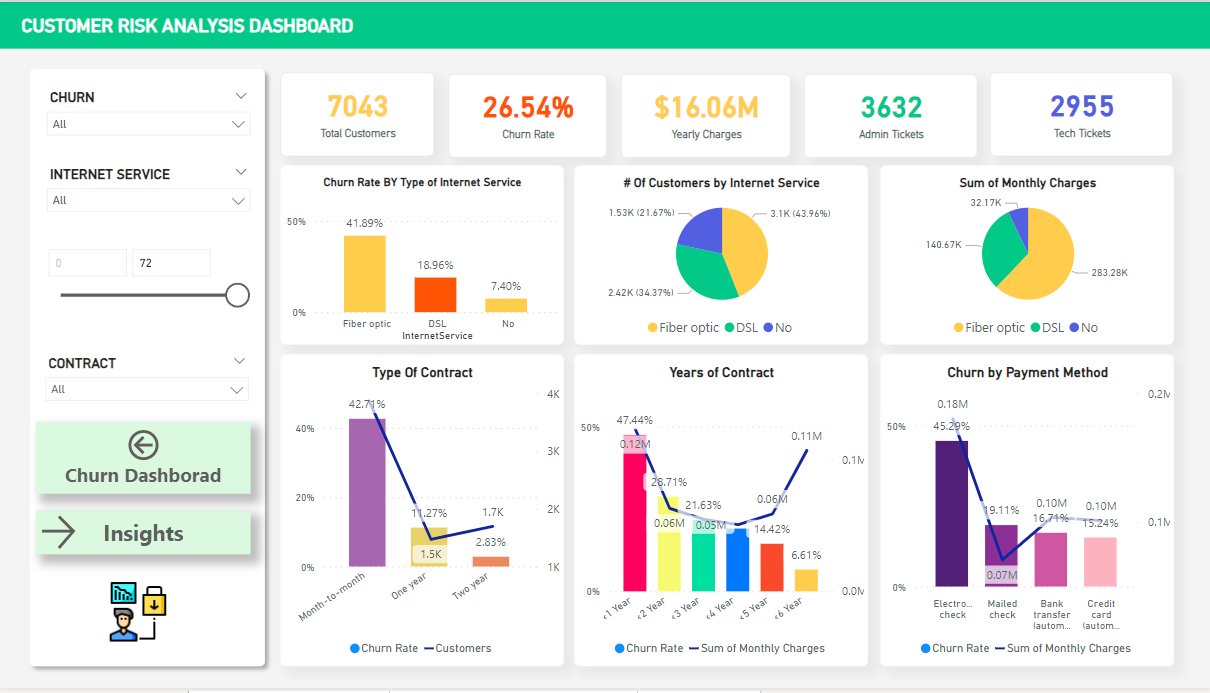

This screenshot's page, from the dashboard's own definition file:
{"tool":"powerbi","page":{"name":"Customer Risk Analysis","canvas":[1280,720],"ordinal":1},"visuals":[{"type":"shape","box":[0,0,1280,49],"z":0},{"type":"textbox","box":[21,8,438,33],"z":1000},{"type":"shape","box":[25,61,265,645],"z":2000},{"type":"slicer","fields":{"Values":["Churn.Churn"]},"box":[42,82,233,81],"z":3000},{"type":"slicer","fields":{"Values":["Churn.InternetService"]},"box":[42,163,233,81],"z":4000},{"type":"slicer","fields":{"Values":["Churn.tenure"]},"box":[41,244,233,97],"z":5000},{"type":"slicer","fields":{"Values":["Churn.Contract"]},"box":[41,360,233,81],"z":6000},{"type":"card","fields":{"Values":["CountNonNull(01 Churn-Dataset.customerID)"]},"box":[298,74,161,88],"z":7000},{"type":"card","fields":{"Values":["Churn.% Churn Rate"]},"box":[474,75,166,88],"z":8000},{"type":"card","fields":{"Values":["Sum(Churn.TotalCharges)"]},"box":[656,75,178,88],"z":9000},{"type":"card","fields":{"Values":["Sum(Churn.numAdminTickets)"]},"box":[848,75,182,88],"z":10000},{"type":"card","fields":{"Values":["Sum(Churn.numTechTickets)"]},"box":[1043,74,192,88],"z":11000},{"type":"columnChart","title":"Churn Rate BY Type of Internet Service","fields":{"Y":["Churn.% Churn Rate"],"Category":["Churn.InternetService"]},"box":[298,172,297,188],"z":12000},{"type":"pieChart","title":"# Of Customers by Internet Service","fields":{"Y":["CountNonNull(Churn.customerID)"],"Category":["Churn.InternetService"]},"box":[607,172,308,188],"z":13000},{"type":"pieChart","title":"Sum of Monthly Charges","fields":{"Category":["Churn.InternetService"],"Y":["Sum(Churn.MonthlyCharges)"]},"box":[927,172,308,188],"z":14000},{"type":"lineStackedColumnComboChart","title":"Type Of Contract","fields":{"Y2":["CountNonNull(Churn.customerID)"],"Y":["Churn.% Churn Rate"],"Category":["Churn.Contract"]},"box":[298,370,297,327],"z":15000},{"type":"lineStackedColumnComboChart","title":"Years of Contract","fields":{"Y":["Churn.% Churn Rate"],"Y2":["Sum(Churn.MonthlyCharges)"],"Category":["Churn.Tenure(in years)"]},"box":[607,370,308,327],"z":16000},{"type":"lineStackedColumnComboChart","title":"Churn by Payment Method","fields":{"Y":["Churn.% Churn Rate"],"Y2":["Sum(Churn.MonthlyCharges)"],"Category":["Churn.PaymentMethod"]},"box":[927,370,308,327],"z":17000},{"type":"actionButton","title":"Insights","box":[41,534,225.2,45.7],"z":19000},{"type":"actionButton","title":"Churn Dashboard","box":[41,441,225.2,75.6],"z":20000},{"type":"image","box":[110.3,601.7,78.8,77.2],"z":20001}]}

Visuals, with their boxes in screenshot pixels (x1, y1, x2, y2), scaled from the page's 1280x720 canvas onto the 1210x693 screenshot:
shape: (x1=0, y1=0, x2=1209, y2=47)
textbox: (x1=20, y1=8, x2=434, y2=39)
shape: (x1=24, y1=59, x2=274, y2=680)
slicer - Churn.Churn: (x1=40, y1=79, x2=260, y2=157)
slicer - Churn.InternetService: (x1=40, y1=157, x2=260, y2=235)
slicer - Churn.tenure: (x1=39, y1=235, x2=259, y2=328)
slicer - Churn.Contract: (x1=39, y1=346, x2=259, y2=424)
card - CountNonNull(01 Churn-Dataset.customerID): (x1=282, y1=71, x2=434, y2=156)
card - Churn.% Churn Rate: (x1=448, y1=72, x2=605, y2=157)
card - Sum(Churn.TotalCharges): (x1=620, y1=72, x2=788, y2=157)
card - Sum(Churn.numAdminTickets): (x1=802, y1=72, x2=974, y2=157)
card - Sum(Churn.numTechTickets): (x1=986, y1=71, x2=1167, y2=156)
"Churn Rate BY Type of Internet Service" columnChart: (x1=282, y1=166, x2=562, y2=346)
"# Of Customers by Internet Service" pieChart: (x1=574, y1=166, x2=865, y2=346)
"Sum of Monthly Charges" pieChart: (x1=876, y1=166, x2=1167, y2=346)
"Type Of Contract" lineStackedColumnComboChart: (x1=282, y1=356, x2=562, y2=671)
"Years of Contract" lineStackedColumnComboChart: (x1=574, y1=356, x2=865, y2=671)
"Churn by Payment Method" lineStackedColumnComboChart: (x1=876, y1=356, x2=1167, y2=671)
"Insights" actionButton: (x1=39, y1=514, x2=252, y2=558)
"Churn Dashboard" actionButton: (x1=39, y1=424, x2=252, y2=497)
image: (x1=104, y1=579, x2=179, y2=653)
